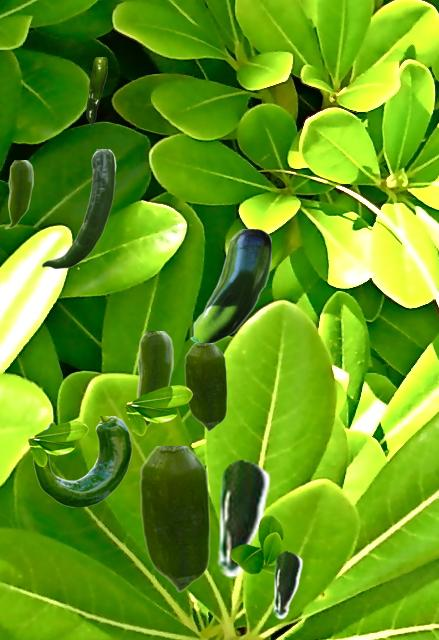green_chili: (139, 446, 209, 591), (189, 229, 270, 343), (33, 416, 131, 506), (41, 149, 115, 268), (214, 458, 270, 577), (131, 331, 172, 431), (184, 343, 226, 430), (271, 550, 302, 618), (4, 160, 32, 228), (86, 57, 106, 125)
